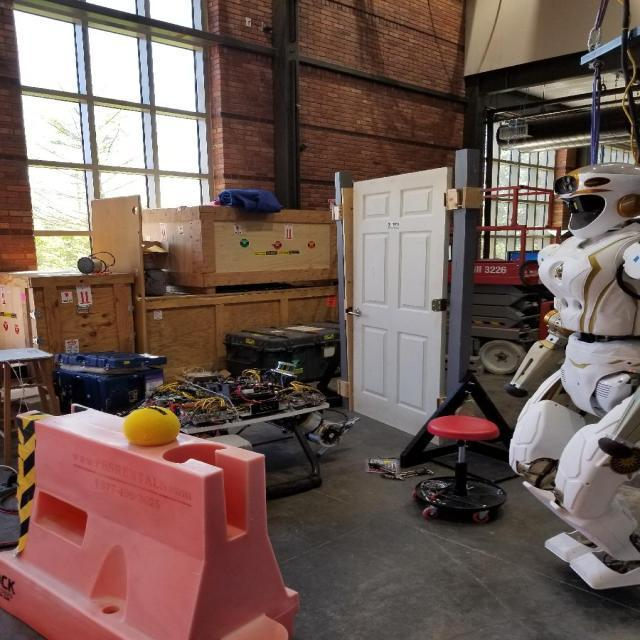door: (350, 164, 454, 450), (346, 306, 364, 316)
